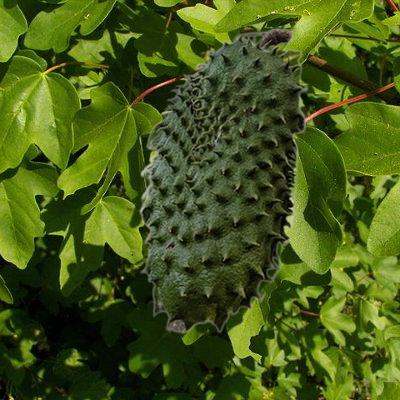guyabano: (138, 27, 307, 333)
